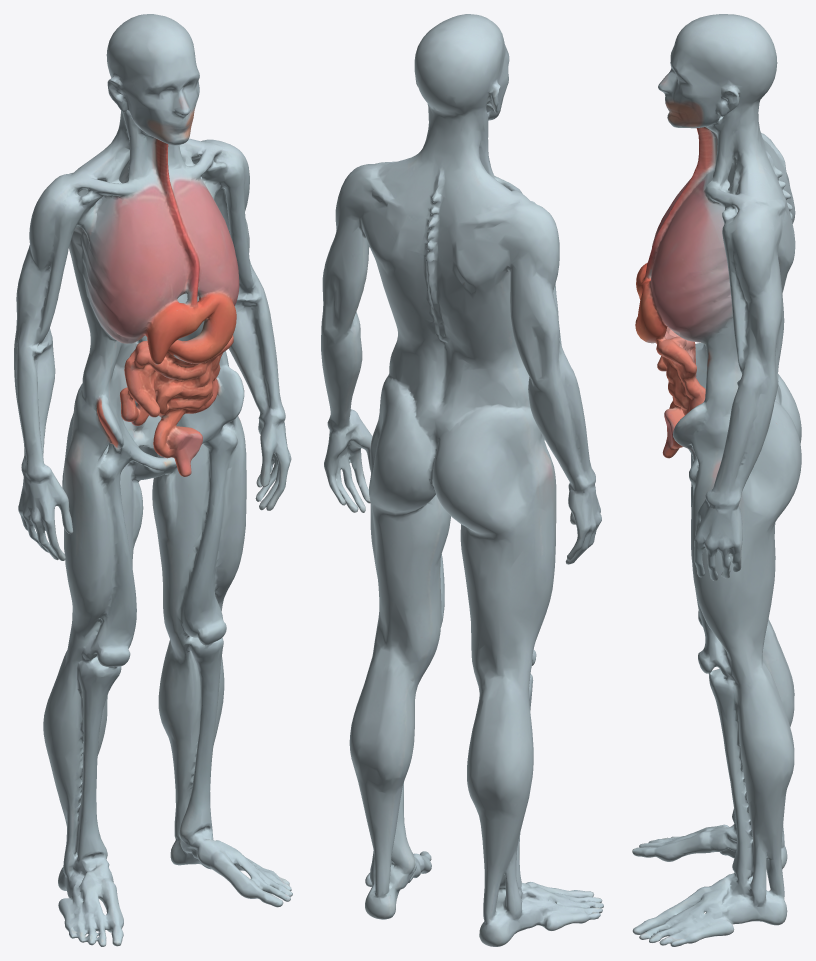
The model's file is Exhibit_HumanTorsoCutaway.glb.
3 views of the same model, side by side, from view 1: azimuth 30°, elevation 25°; view 2: azimuth 150°, elevation 25°; view 3: azimuth 270°, elevation 25° (orthographic).
Bounding box in the file's own units: 0.5922 × 1.9 × 0.332.
Materials: 1 (1 with a texture image).
